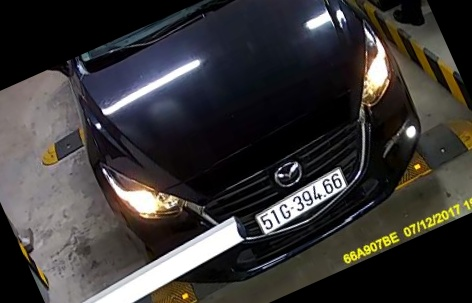plate: (249, 171, 352, 239)
